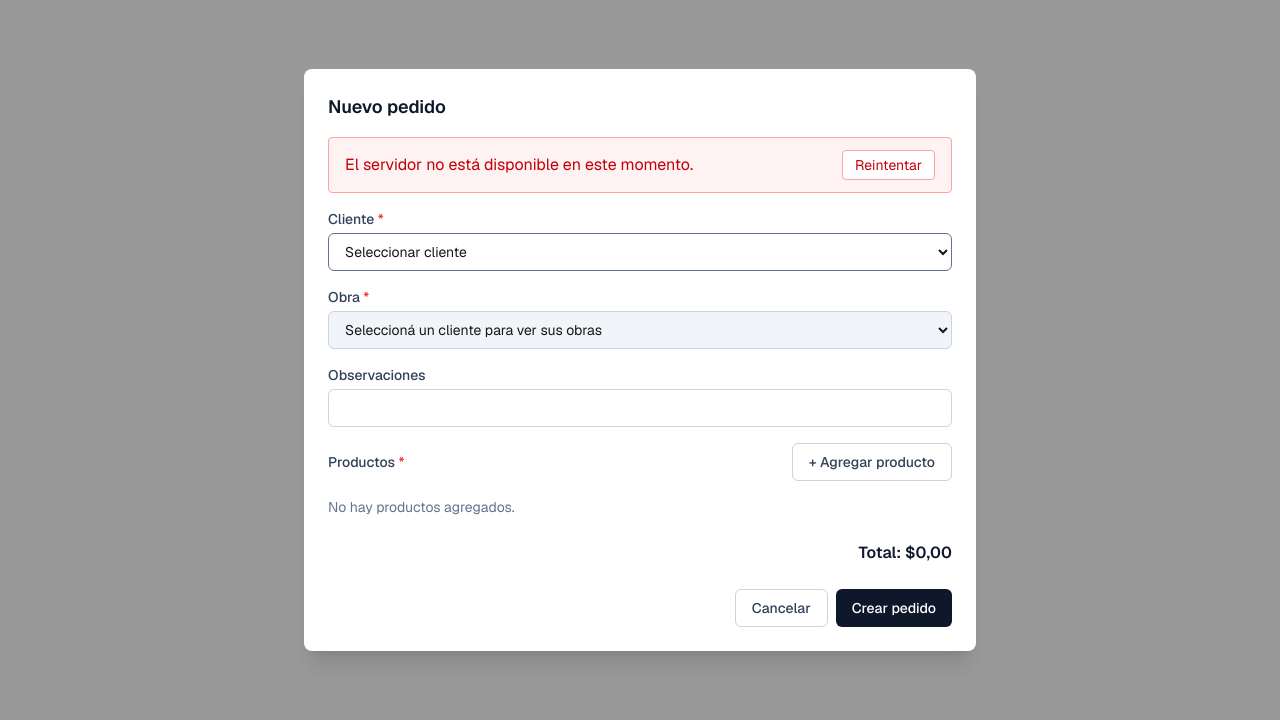
Test: formulario de pedido: informa si no pudo cargar los catalogos › si fallan los clientes o productos lo avisa y permite reintentar
The image size is (1280, 720).
Expected: the message shows "El servidor no está disponible", [345, 154, 693, 175]
Click the button "Reintentar".
click(889, 165)  # box [842, 150, 935, 180]
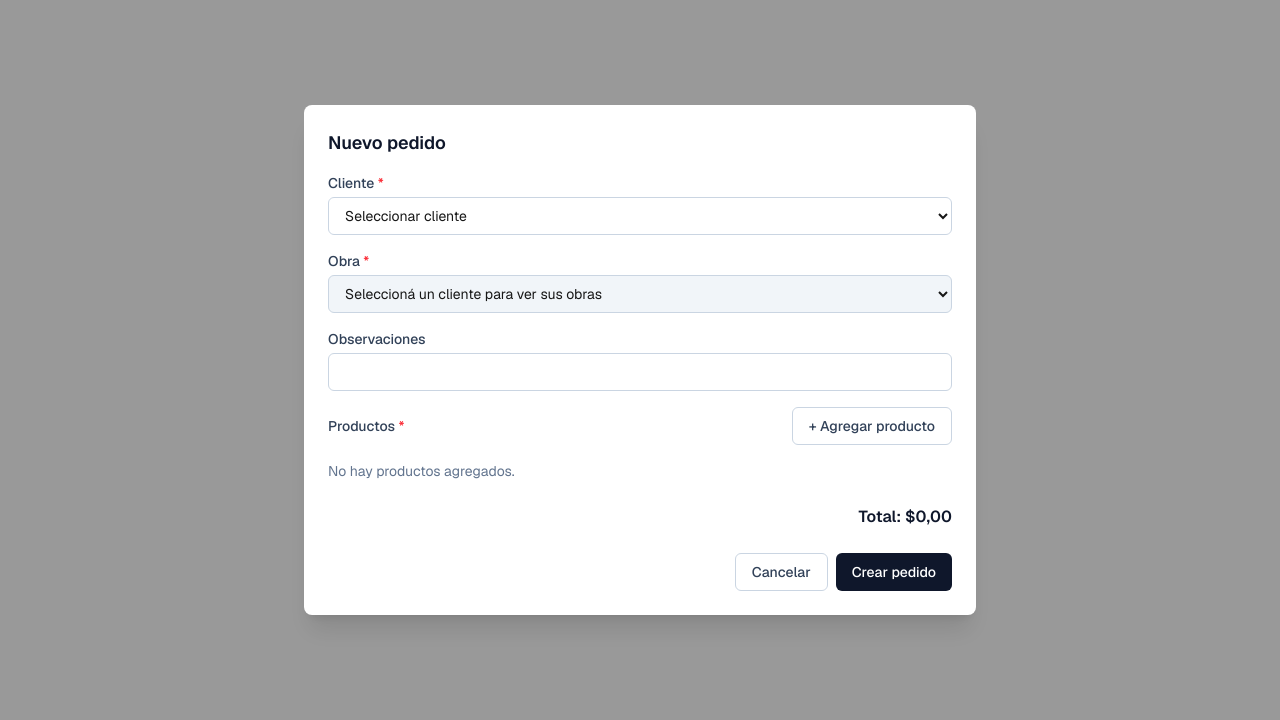
Result: the message "El servidor no está disponible en este momento. Reintentar" is gone
